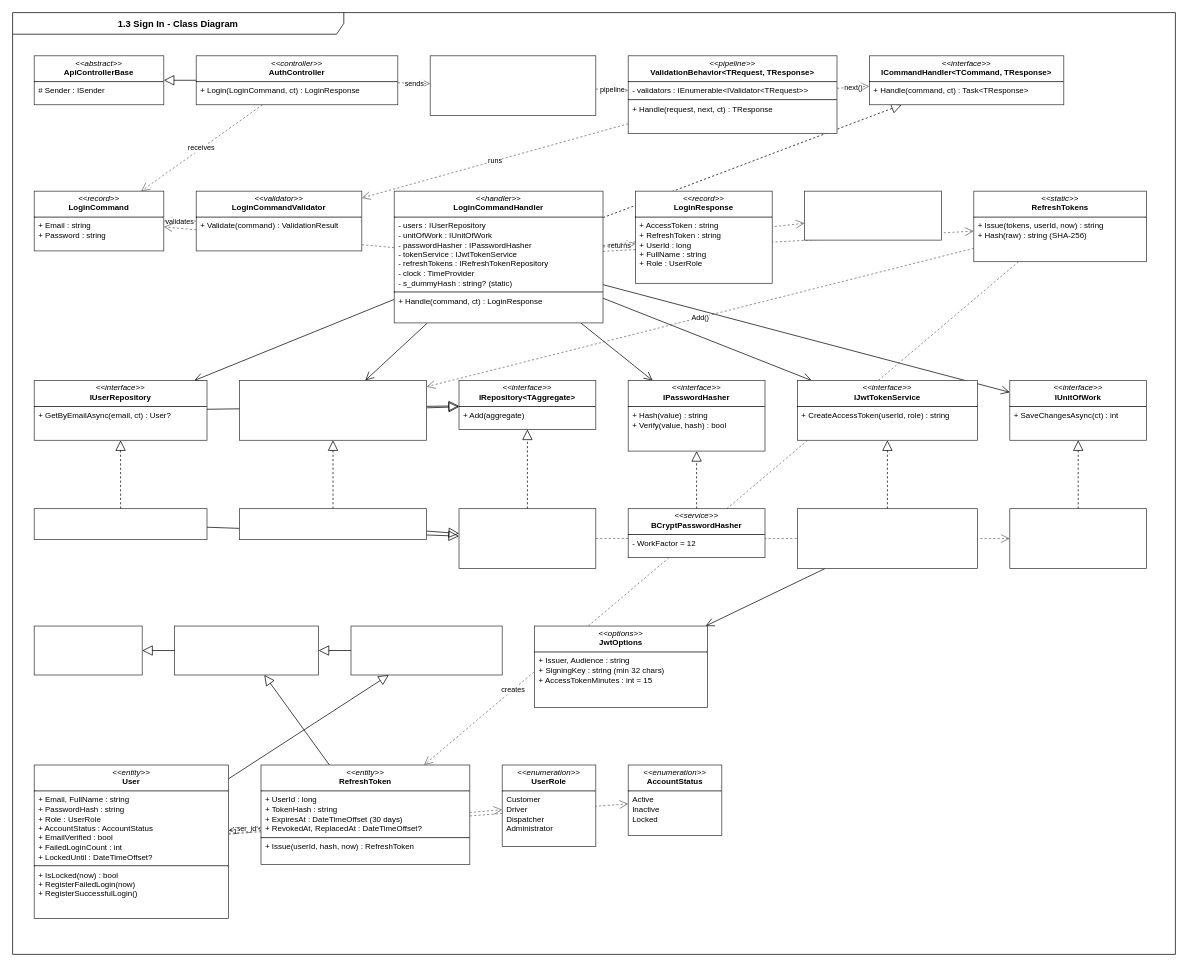
Image size: 1188x967. Some labels were removed from this diagram. The shapes that lost their labels are listed below. From the top down, each one's box as (x1, y1, x2, y2) in pixels, then its label:
(429, 55, 596, 116): <<interface>> ISender (MediatR) + Send(request, ct) : Task<TResponse>
(804, 190, 941, 240): <<static>> AuthRules + Normalize(email) : string
(239, 380, 427, 440): <<interface>> IRefreshTokenRepository + GetByHashAsync(hash, ct) : RefreshToken?
(33, 508, 207, 540): <<repository>> UserRepository
(239, 508, 427, 540): <<repository>> RefreshTokenRepository
(458, 508, 596, 568): <<repository>> Repository<TAggregate> # dbContext : ApplicationDbContext
(797, 508, 977, 568): <<service>> JwtTokenService - options : JwtOptions - clock : TimeProvider
(1009, 508, 1147, 568): <<dbcontext>> ApplicationDbContext + Users, RefreshTokens : DbSet
(33, 625, 142, 675): <<abstract>> BaseEntity + Id : long
(174, 625, 319, 675): <<abstract>> BaseCreatedEntity + CreatedAt : DateTimeOffset
(350, 625, 502, 675): <<abstract>> BaseAuditableEntity + UpdatedAt : DateTimeOffset?
